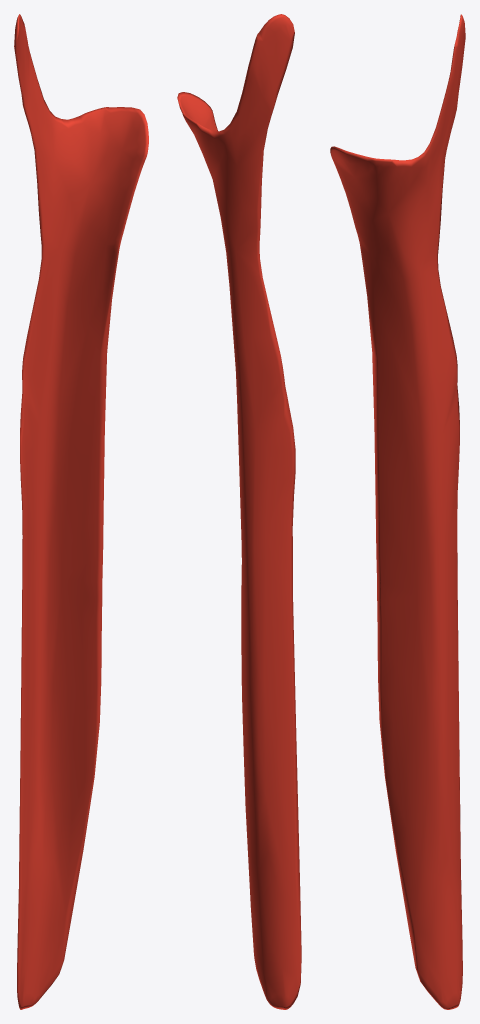
Rendered from Fibularis_longus_lateral_fibula_left.glb.
The picture shows the model from 3 angles, left to right: view 1: azimuth 90°, elevation 25°; view 2: azimuth 210°, elevation 25°; view 3: azimuth 270°, elevation 25°; orthographic projection.
Parts seen in each view (by area): view 1: Fibularis_longus_on_lateral_side_of_fibula.l_Generated_Mesh_; view 2: Fibularis_longus_on_lateral_side_of_fibula.l_Generated_Mesh_; view 3: Fibularis_longus_on_lateral_side_of_fibula.l_Generated_Mesh_.
Boxes of the visible parts, x1,y1,x2,y2 form: Fibularis_longus_on_lateral_side_of_fibula.l_Generated_Mesh_: [14, 14, 148, 1009]; Fibularis_longus_on_lateral_side_of_fibula.l_Generated_Mesh_: [177, 14, 301, 1009]; Fibularis_longus_on_lateral_side_of_fibula.l_Generated_Mesh_: [330, 14, 465, 1009].
Bounding box in the file's own units: 0.0114 × 0.146 × 0.018.
